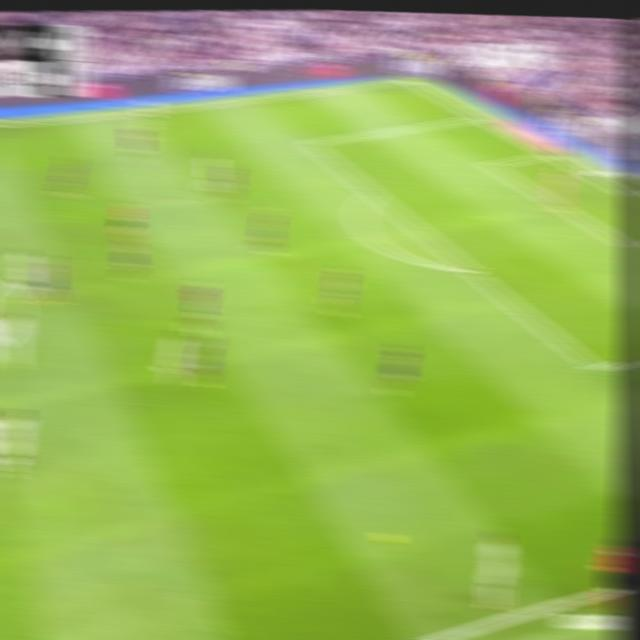bigarea_bottom_inner: (584, 355, 608, 380)
bigarea_top_inner: (302, 135, 320, 149)
bottom_arc_area_intersection: (458, 261, 481, 279)
corner: (398, 75, 417, 85)
smallarea_top_inner: (483, 159, 498, 170)
top_arc_area_intersection: (363, 185, 383, 199)
